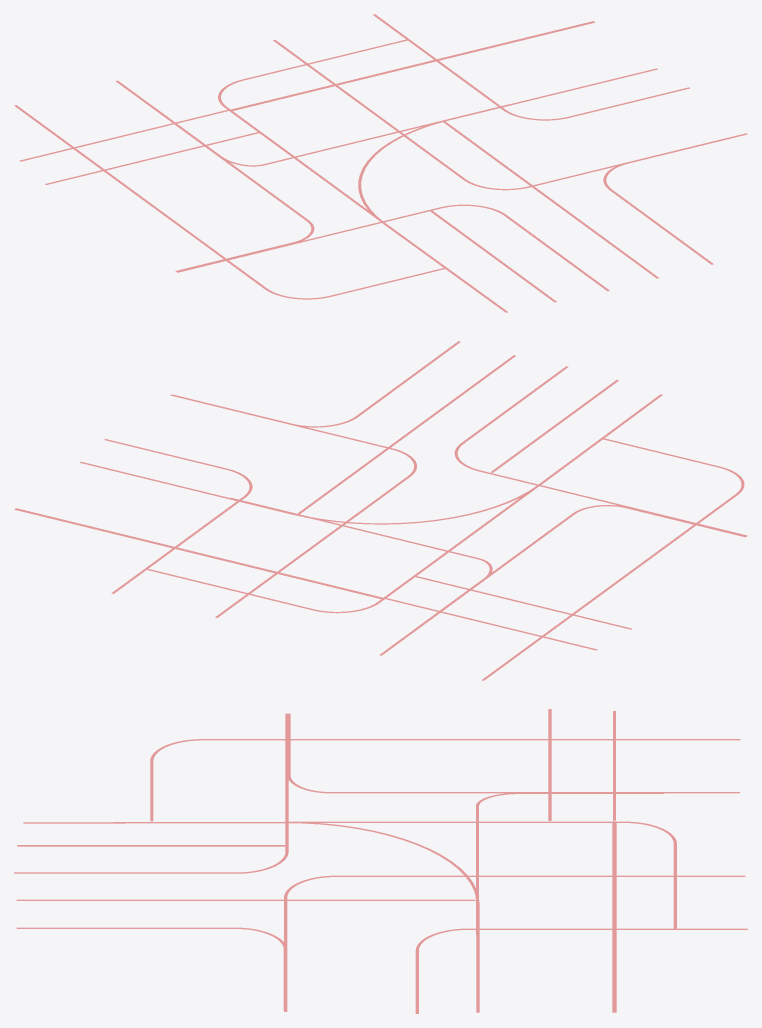
The model's file is Traffic.gltf.
The picture shows the model from 3 angles, top to bottom: view 1: azimuth 30°, elevation 25°; view 2: azimuth 150°, elevation 25°; view 3: azimuth 270°, elevation 25°; orthographic projection. The views are drawn at different scales.
Parts seen in each view (by area): view 1: Traffic; view 2: Traffic; view 3: Traffic.
Boxes of the visible parts, x1=… form: Traffic: x1=14, y1=14, x2=747, y2=312; Traffic: x1=14, y1=341, x2=747, y2=680; Traffic: x1=14, y1=709, x2=747, y2=1013.
Size of the model in its own units: 159 by 0.295 by 161.
